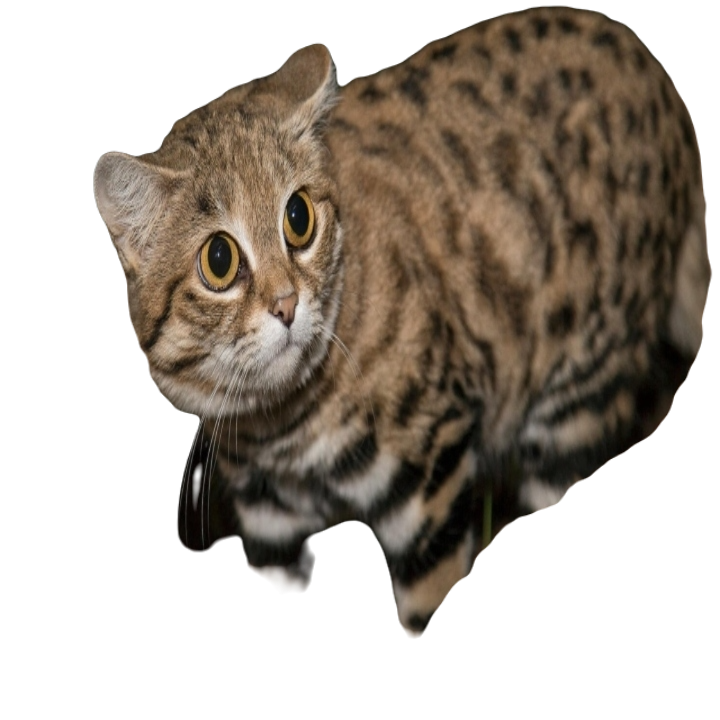Cat: (86, 0, 719, 633)
